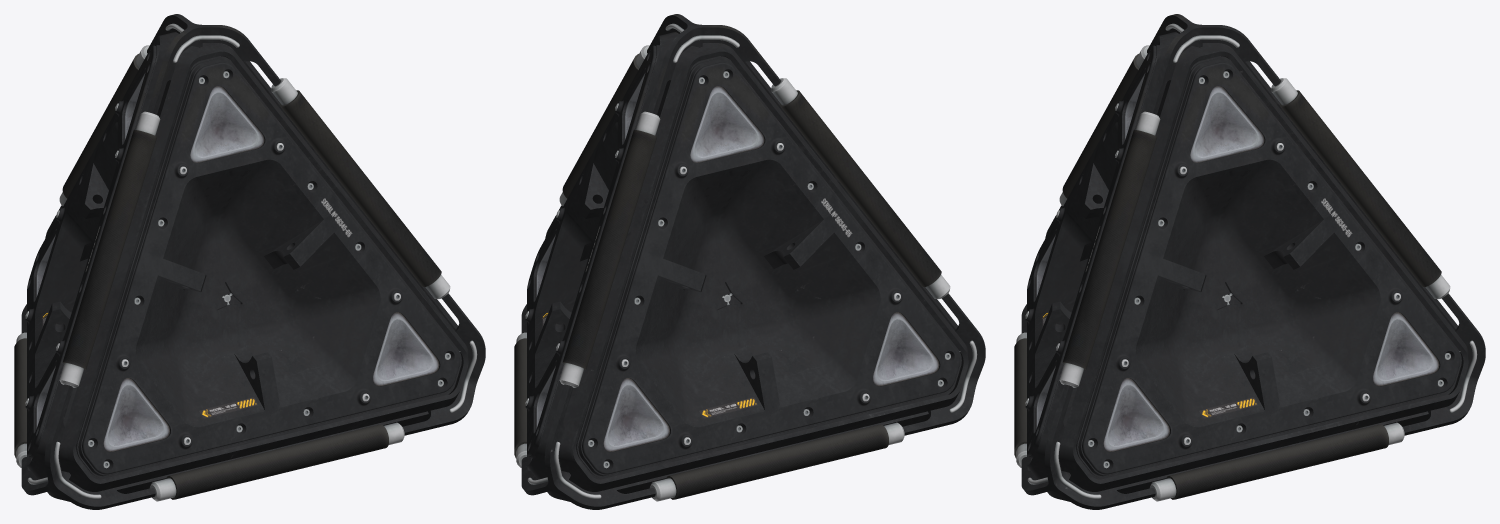
File: sci-fi_triangle_container.glb
3 renders of one model, left to right at view 1: azimuth 30°, elevation 25°; view 2: azimuth 150°, elevation 25°; view 3: azimuth 270°, elevation 25°, orthographic.
Visible parts, largest first — view 1: Sci-fi_triangle_container; view 2: Sci-fi_triangle_container; view 3: Sci-fi_triangle_container.
Boxes of the visible parts, box(x1,y1,x2,y2) form: Sci-fi_triangle_container: box(14, 14, 485, 509); Sci-fi_triangle_container: box(514, 14, 985, 509); Sci-fi_triangle_container: box(1014, 14, 1485, 509).
Bounding box in the file's own units: 1.01 × 0.8448 × 0.9358.
Materials: 1 (1 with a texture image).
